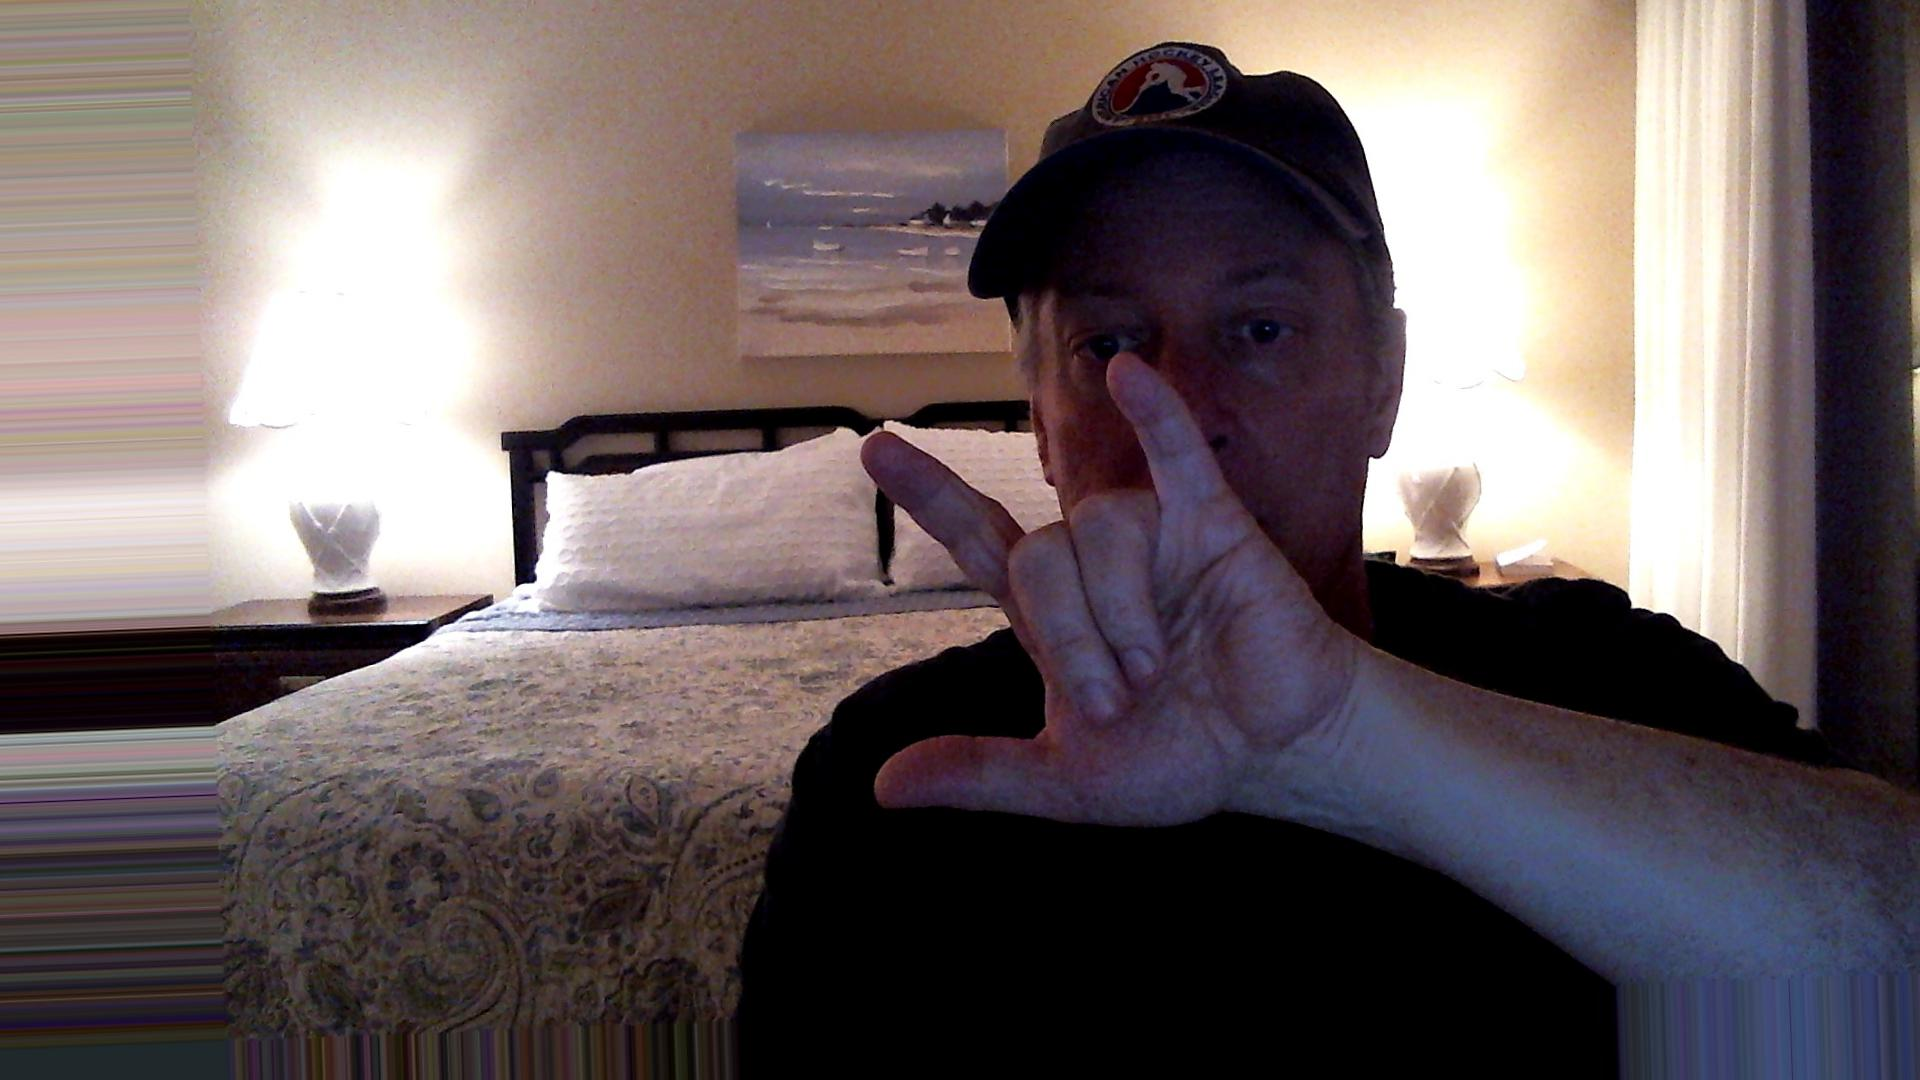I Love You: (829, 336, 1367, 833)
